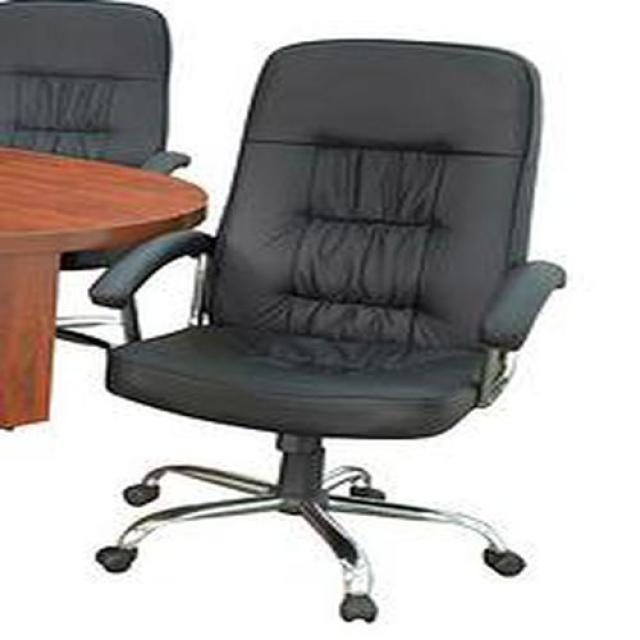swivelchair: (88, 38, 568, 626)
